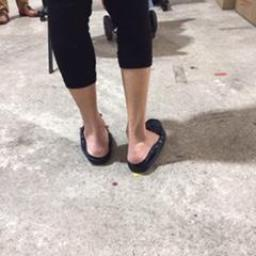Back View -Both Feet-: (70, 98, 171, 177)
